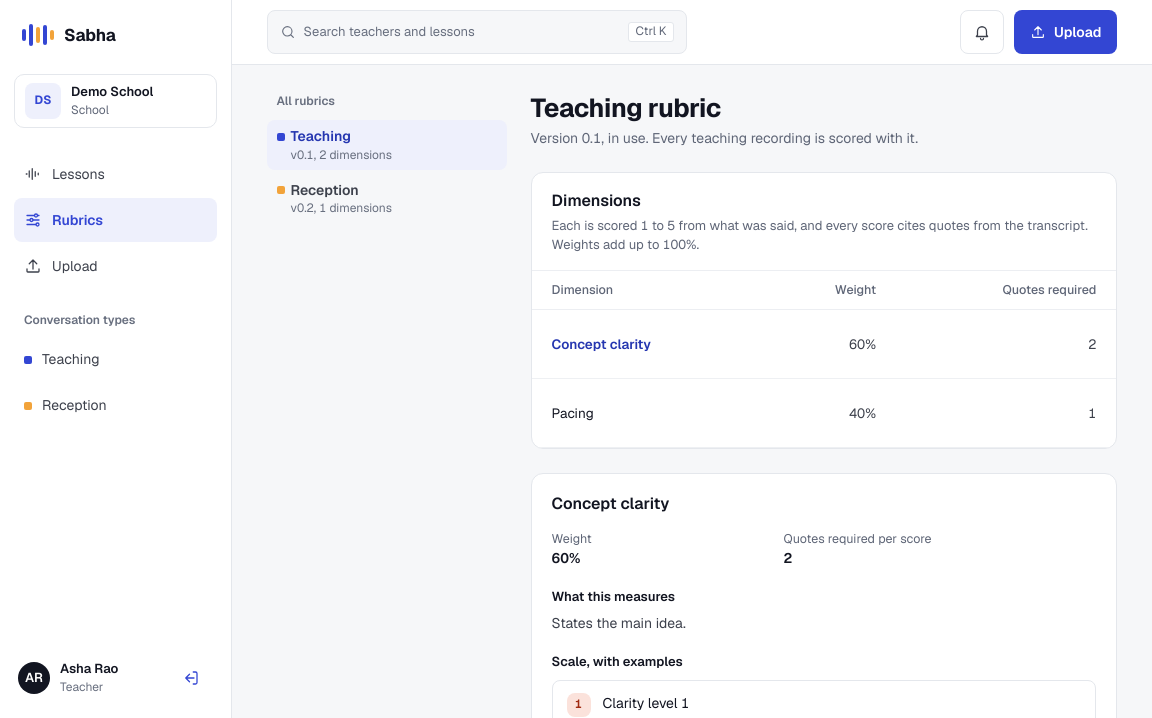
the rubrics page › lists dimensions with weights and quotes, and shows the chosen one's scale with examples
Expected: the heading "Concept clarity" is shown, [552, 492, 669, 516]
Click the button "Pacing".
click(573, 414)  # box [552, 392, 594, 436]
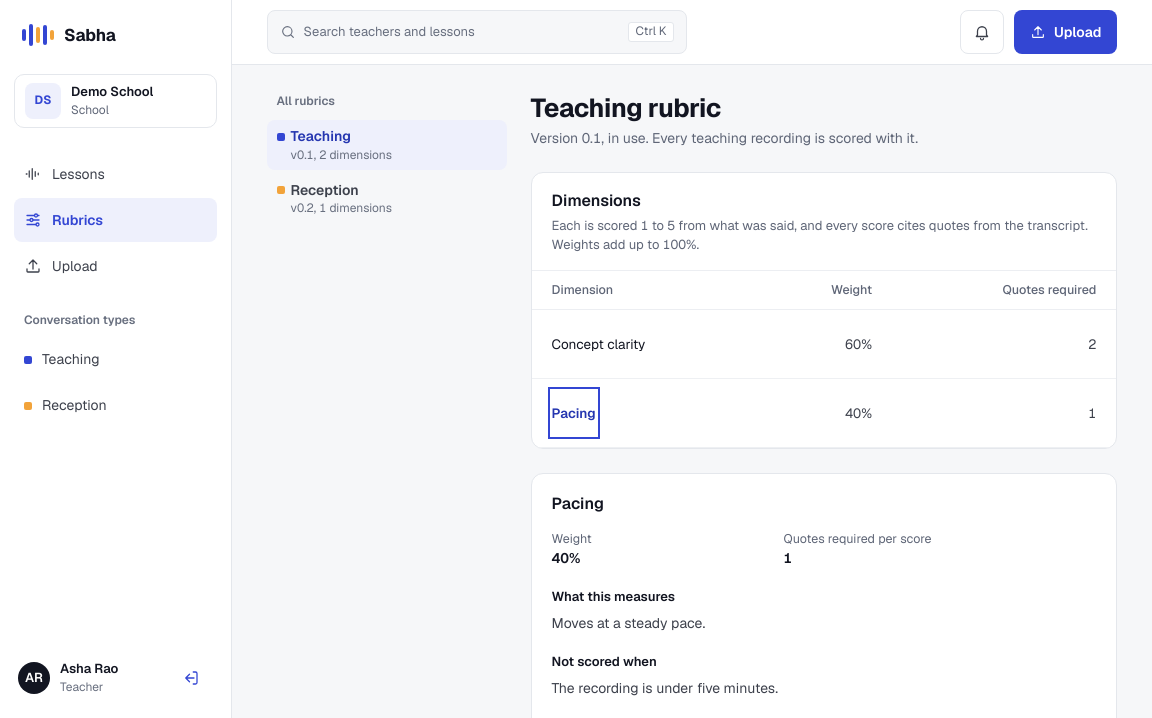
Now the heading "Pacing" is shown, box [552, 492, 604, 516]
Now the text "The recording is under five minutes." is shown, box [552, 679, 778, 697]
